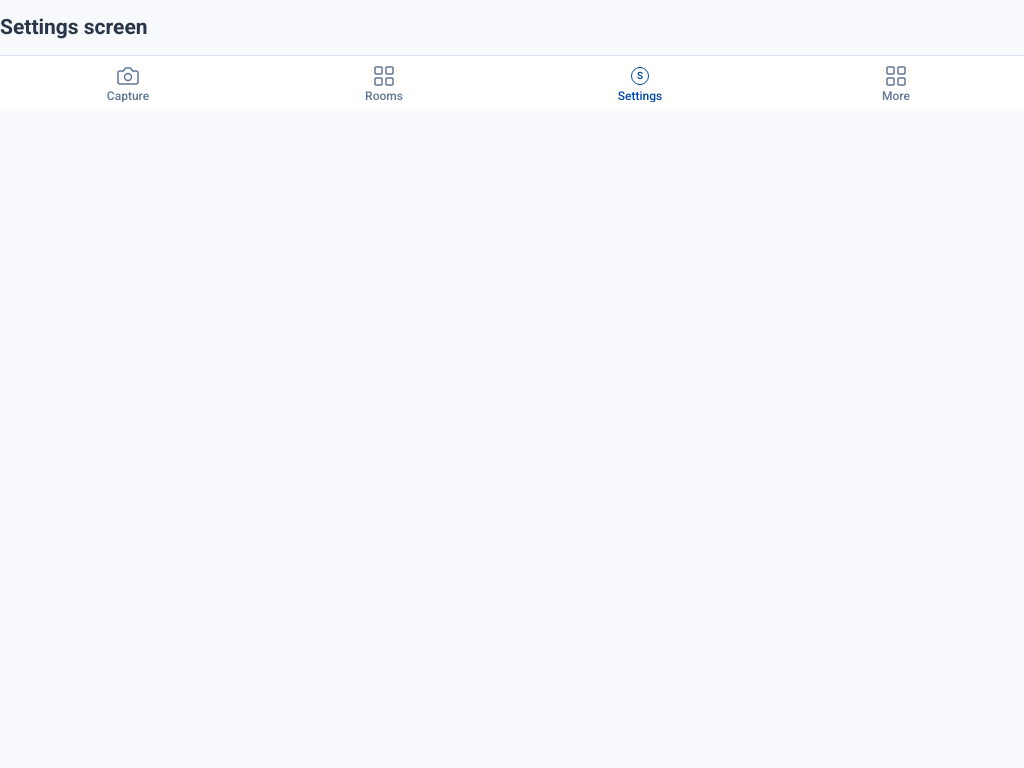
AppShell chrome selection › the More sheet lists nothing already on the dock
This screenshot has width=1024, height=768.
Click the button "More".
click(896, 83)  # box top-left (768, 56), bottom-right (1023, 111)
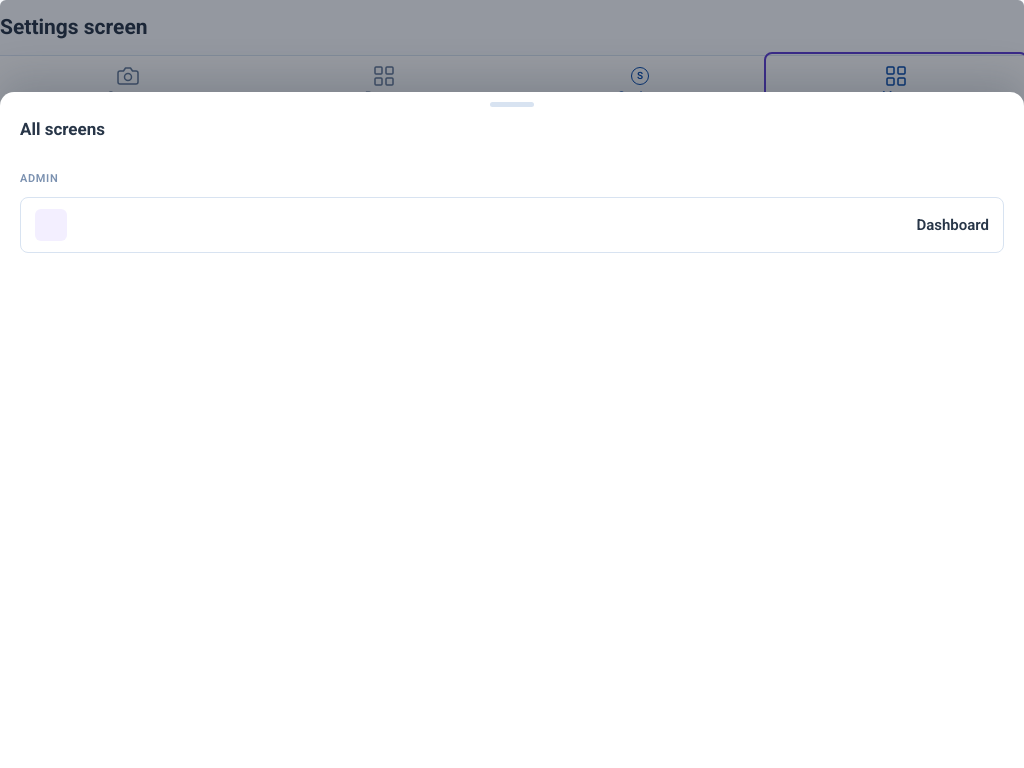
Now the button "Dashboard" is shown, box top-left (20, 197), bottom-right (1004, 253)
